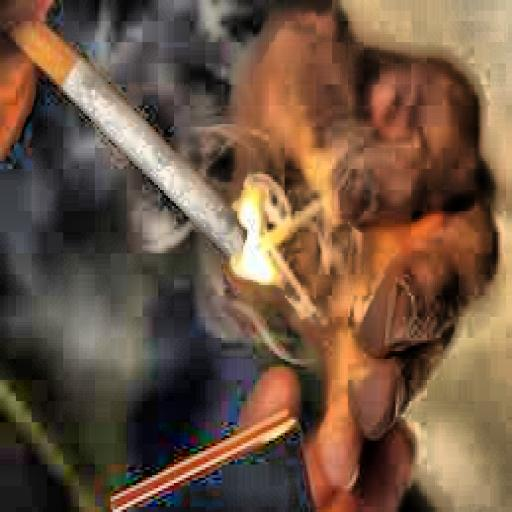fire: (218, 177, 282, 290)
